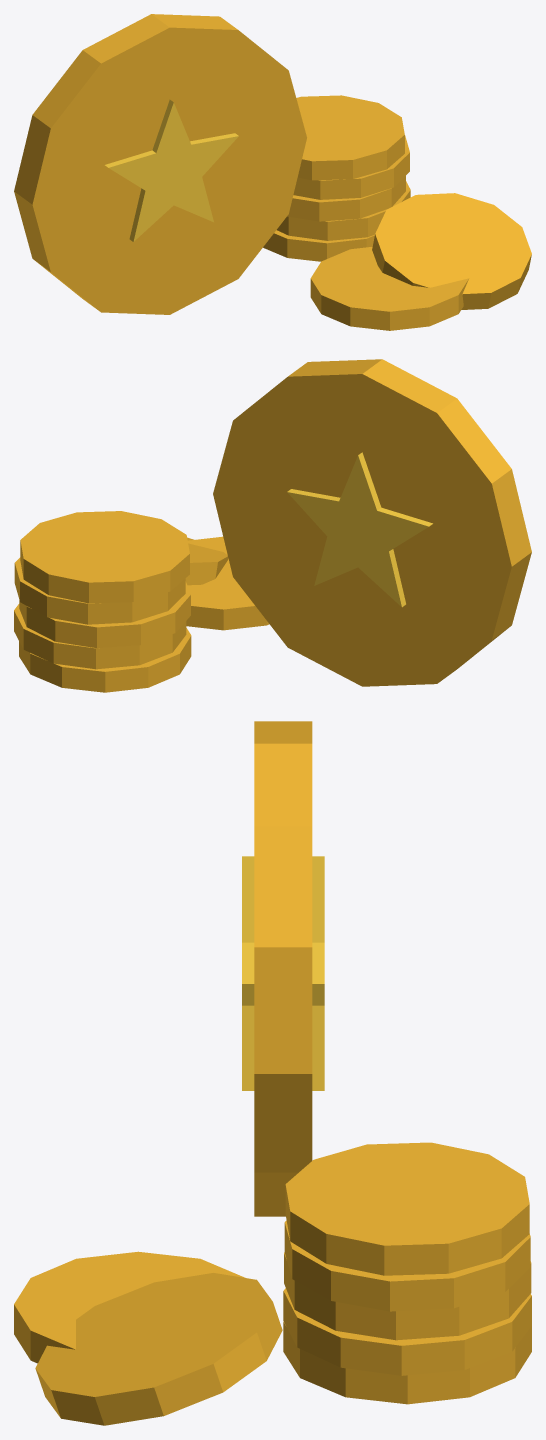
The model's file is Coins.fbx.
3 views of the same model, one above another, from view 1: azimuth 30°, elevation 25°; view 2: azimuth 150°, elevation 25°; view 3: azimuth 270°, elevation 25° (orthographic). The views are drawn at different scales.
Visible parts, largest first — view 1: Coins; view 2: Coins; view 3: Coins.
Boxes of the visible parts, left/top/right/bottom form: Coins: left=14, top=14, right=531, bottom=330; Coins: left=14, top=359, right=531, bottom=692; Coins: left=14, top=721, right=531, bottom=1425.
Size of the model in its own units: 6 by 3.68 by 3.75.
1 material, 1 textured.
